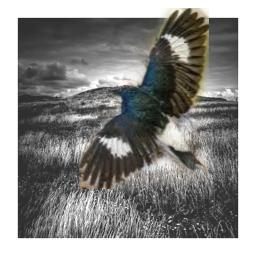Woodpecker: (79, 8, 209, 189)
